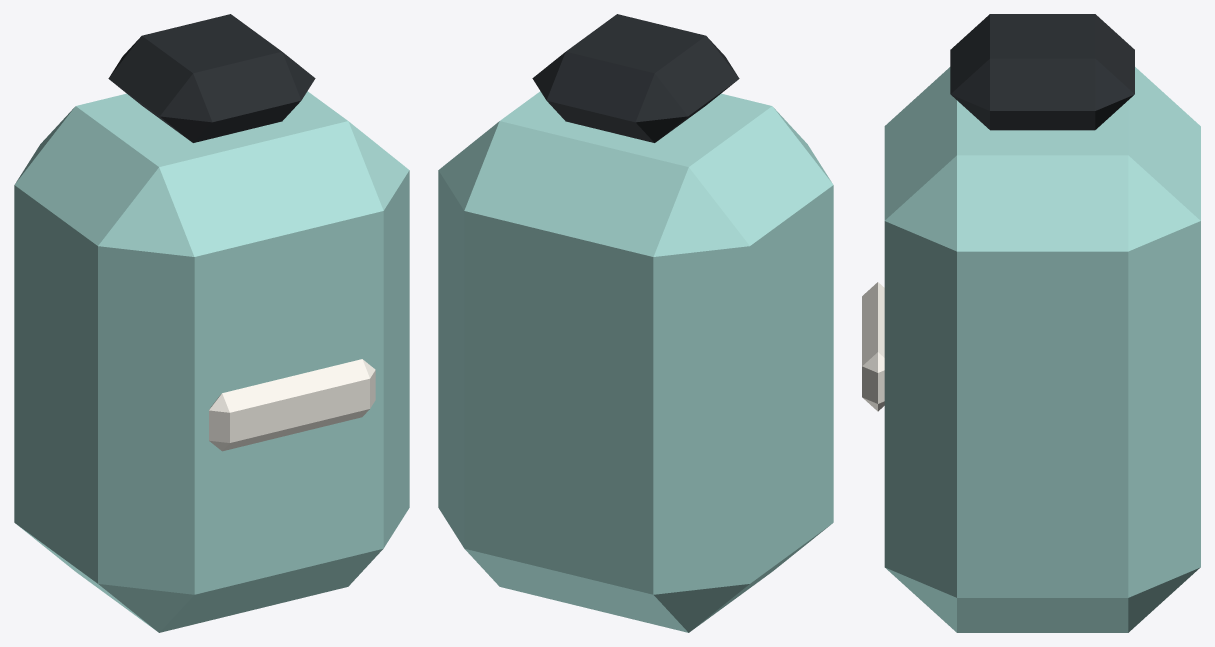
Rendered from battery.glb.
The picture shows the model from 3 angles, left to right: view 1: azimuth 30°, elevation 25°; view 2: azimuth 150°, elevation 25°; view 3: azimuth 270°, elevation 25°; orthographic projection. The views are drawn at different scales.
Visible parts, largest first — view 1: cell, tip, stripe; view 2: cell, tip; view 3: cell, tip, stripe.
Boxes of the visible parts, left/top/right/bottom form: cell: left=14, top=91, right=409, bottom=632; tip: left=108, top=14, right=315, bottom=142; stripe: left=209, top=359, right=375, bottom=451; cell: left=438, top=91, right=833, bottom=632; tip: left=532, top=14, right=739, bottom=142; cell: left=884, top=67, right=1200, bottom=632; tip: left=950, top=14, right=1134, bottom=130; stripe: left=862, top=282, right=884, bottom=411.
Size of the model in its own units: 0.28 by 0.46 by 0.257.
